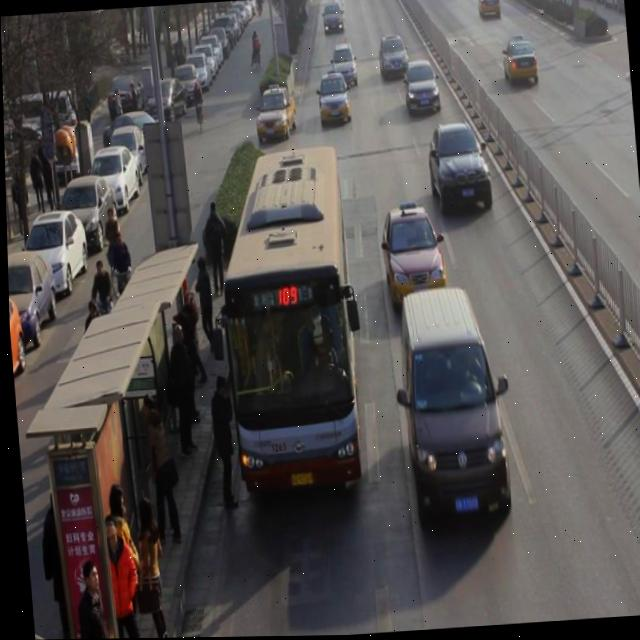car: (378, 203, 447, 302), (425, 120, 493, 216), (254, 83, 298, 143), (401, 58, 440, 116), (500, 35, 539, 87), (316, 69, 351, 126), (377, 35, 410, 80), (331, 42, 358, 88), (322, 2, 344, 36), (477, 0, 502, 19)
truck: (393, 286, 510, 522)
van: (206, 145, 363, 493)
